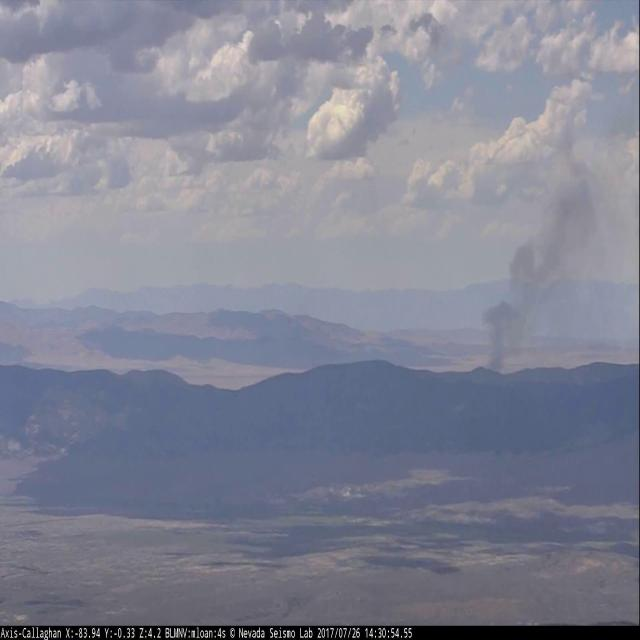smoke: (483, 114, 625, 366)
